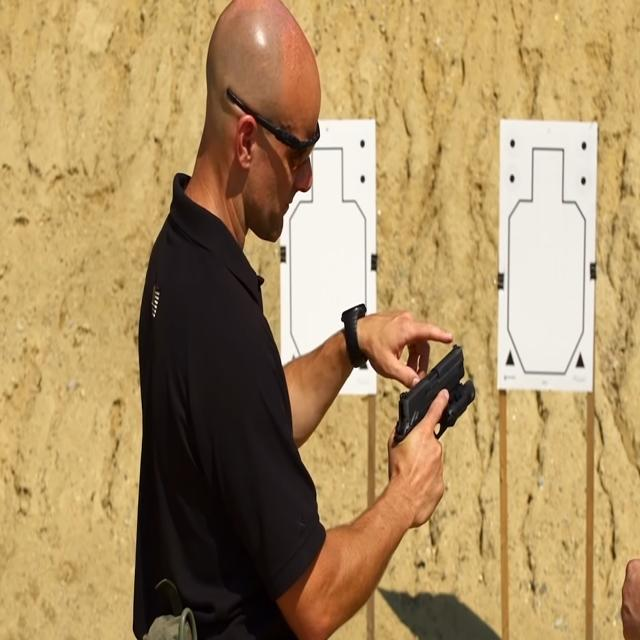Gun_Holder: (380, 352, 475, 508)
Person: (128, 4, 443, 640)
